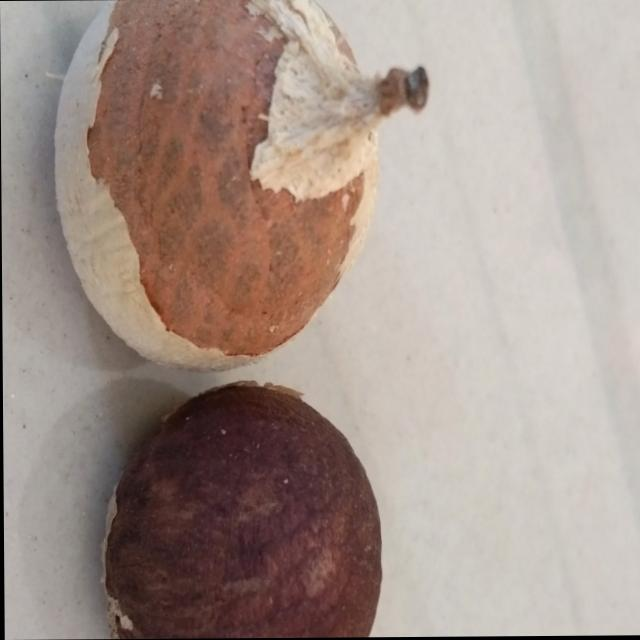karigot: (84, 388, 396, 640)
phatora: (46, 0, 438, 369)
